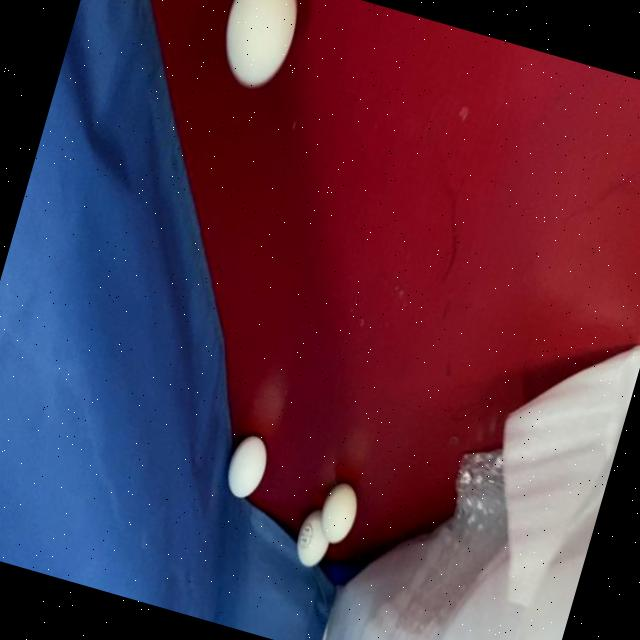ping-pong-ball: (207, 0, 308, 99), (218, 426, 276, 504), (310, 477, 364, 551)
